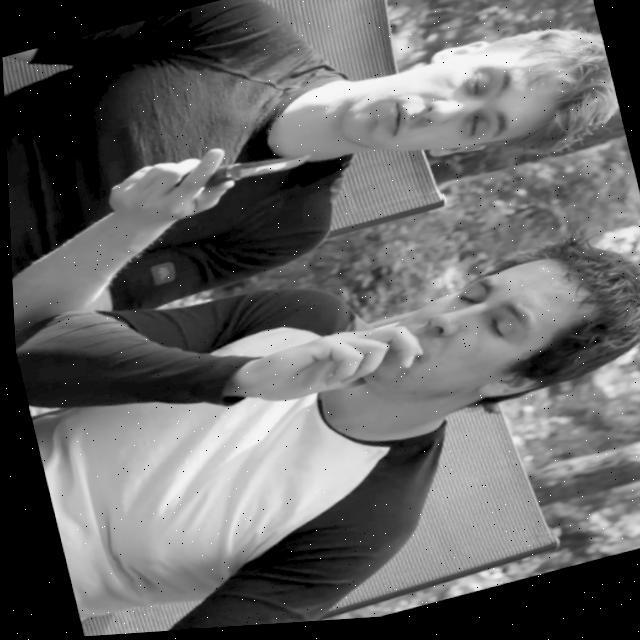knife: (210, 141, 319, 196)
